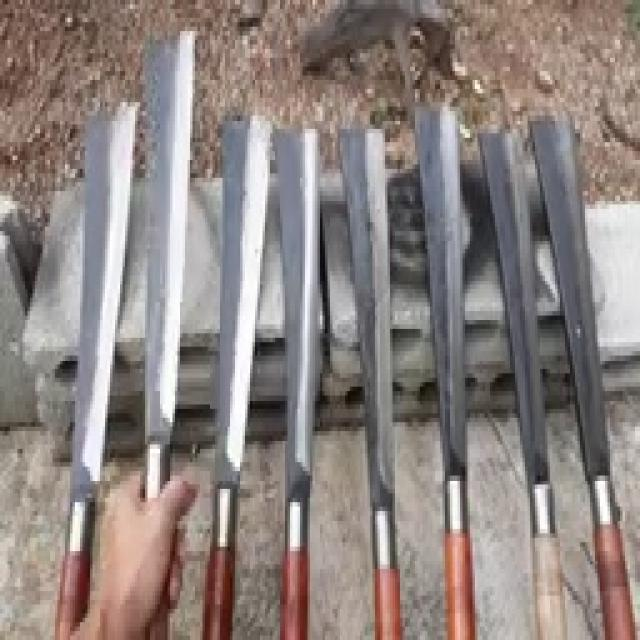eto: (146, 26, 192, 640)
